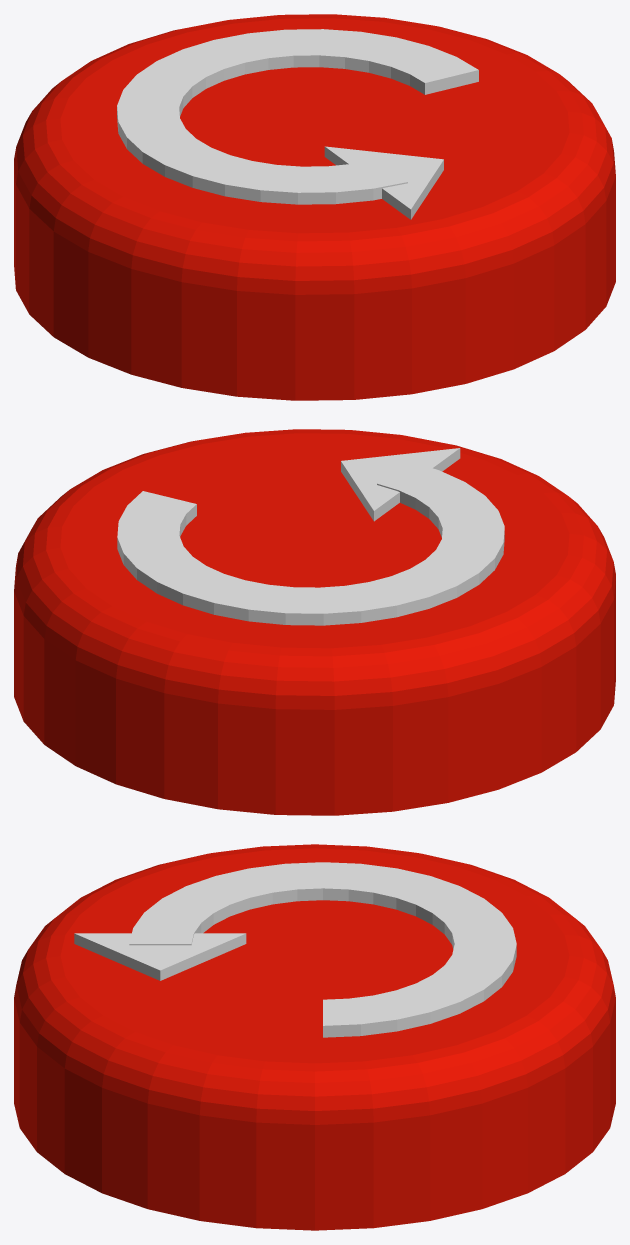
Rendered from button_anti_clockwise.fbx.
3 views of the same model, one above another, from view 1: azimuth 30°, elevation 25°; view 2: azimuth 150°, elevation 25°; view 3: azimuth 270°, elevation 25° (orthographic).
Parts seen in each view (by area): view 1: Circle; view 2: Circle; view 3: Circle.
Part boxes in pixels (<box>): Circle: <box>14,14,615,400</box>; Circle: <box>14,429,615,815</box>; Circle: <box>14,844,615,1230</box>.
Size of the model in its own units: 50.02 by 14.61 by 50.02.
